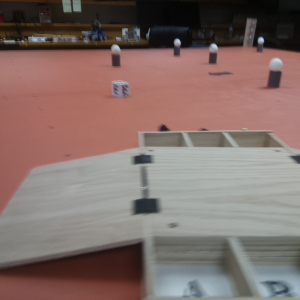blockE: (111, 79, 131, 100)
corner: (244, 19, 257, 50)
obstacle: (267, 59, 284, 93), (110, 45, 122, 68), (208, 43, 219, 64), (257, 35, 266, 55), (173, 39, 182, 57)
side: (138, 237, 299, 300), (136, 121, 287, 148)
slope: (1, 148, 140, 270)
start: (210, 68, 234, 80)
